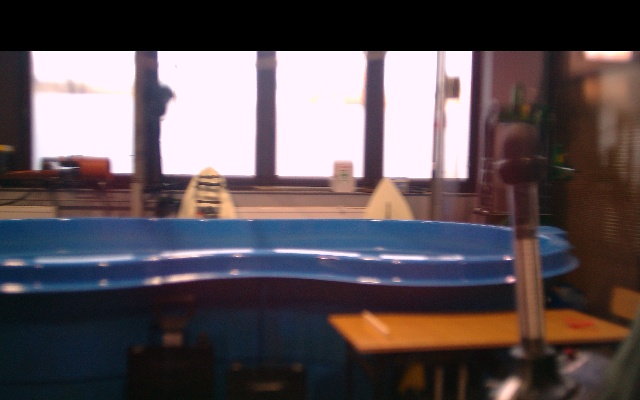black: (513, 223, 545, 351)
